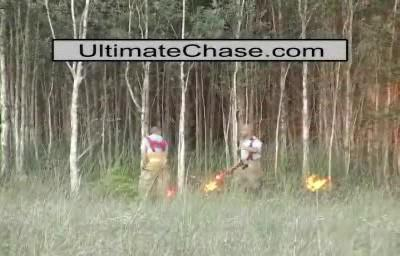fire: (199, 167, 226, 199), (299, 171, 331, 193), (164, 184, 176, 197)
